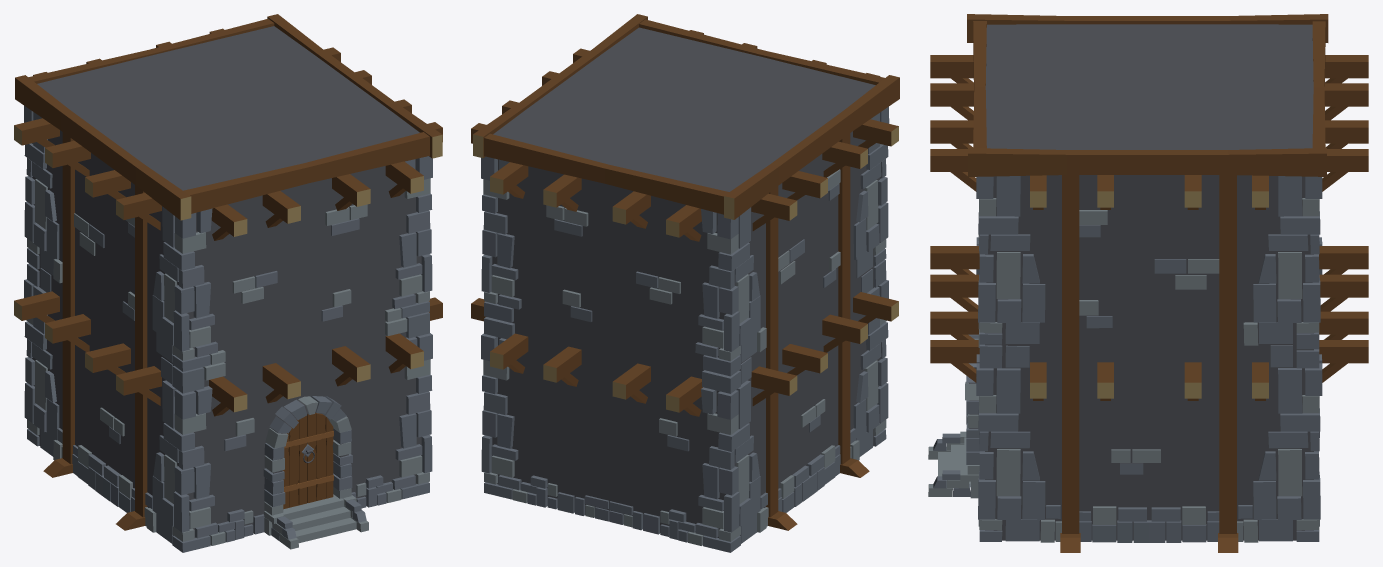
The model's file is Fantasy Barracks.glb.
3 renders of one model, left to right at view 1: azimuth 30°, elevation 25°; view 2: azimuth 150°, elevation 25°; view 3: azimuth 270°, elevation 25°, orthographic. The views are drawn at different scales.
Parts seen in each view (by area): view 1: Fantasy Barracks; view 2: Fantasy Barracks; view 3: Fantasy Barracks.
Boxes of the visible parts, x1=… form: Fantasy Barracks: x1=14, y1=14, x2=442, y2=552; Fantasy Barracks: x1=471, y1=14, x2=899, y2=552; Fantasy Barracks: x1=928, y1=14, x2=1368, y2=552.
Size of the model in its own units: 1.94 by 2.09 by 2.12.
